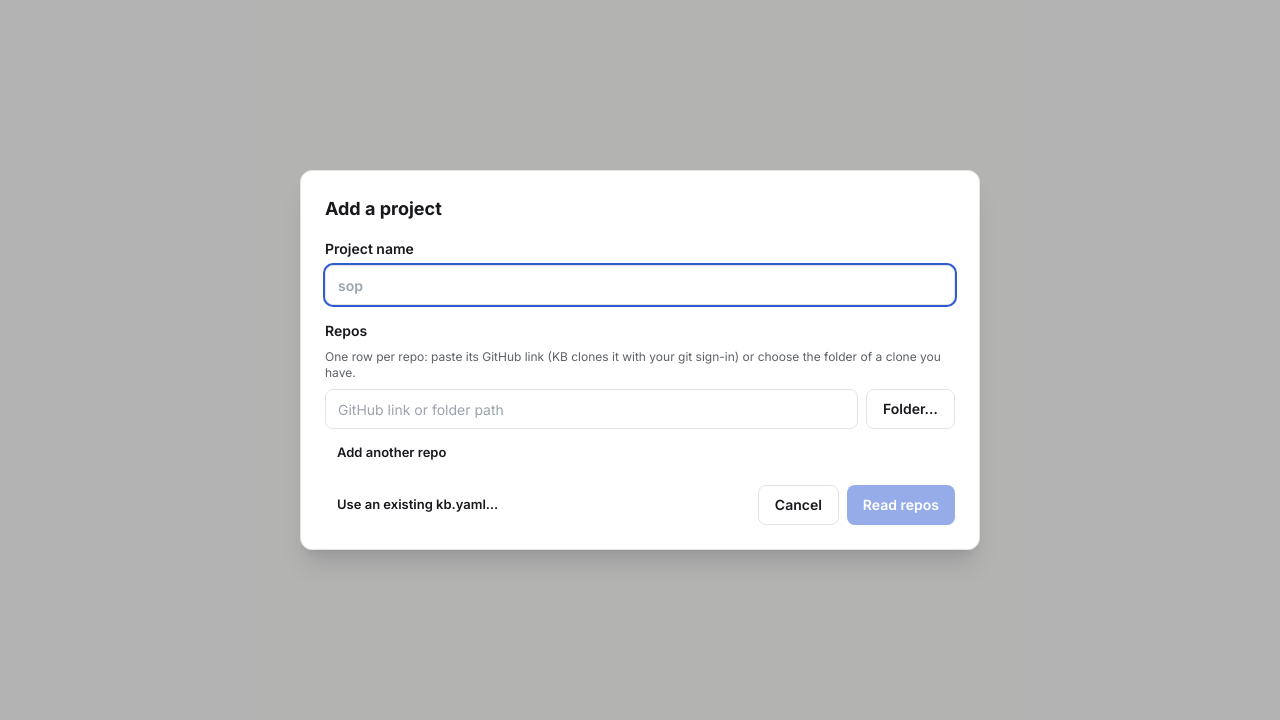
it: existing_yaml_still_works
Click the button "Use an existing kb.yaml…" at x=418, y=505, box [325,489,510,521]
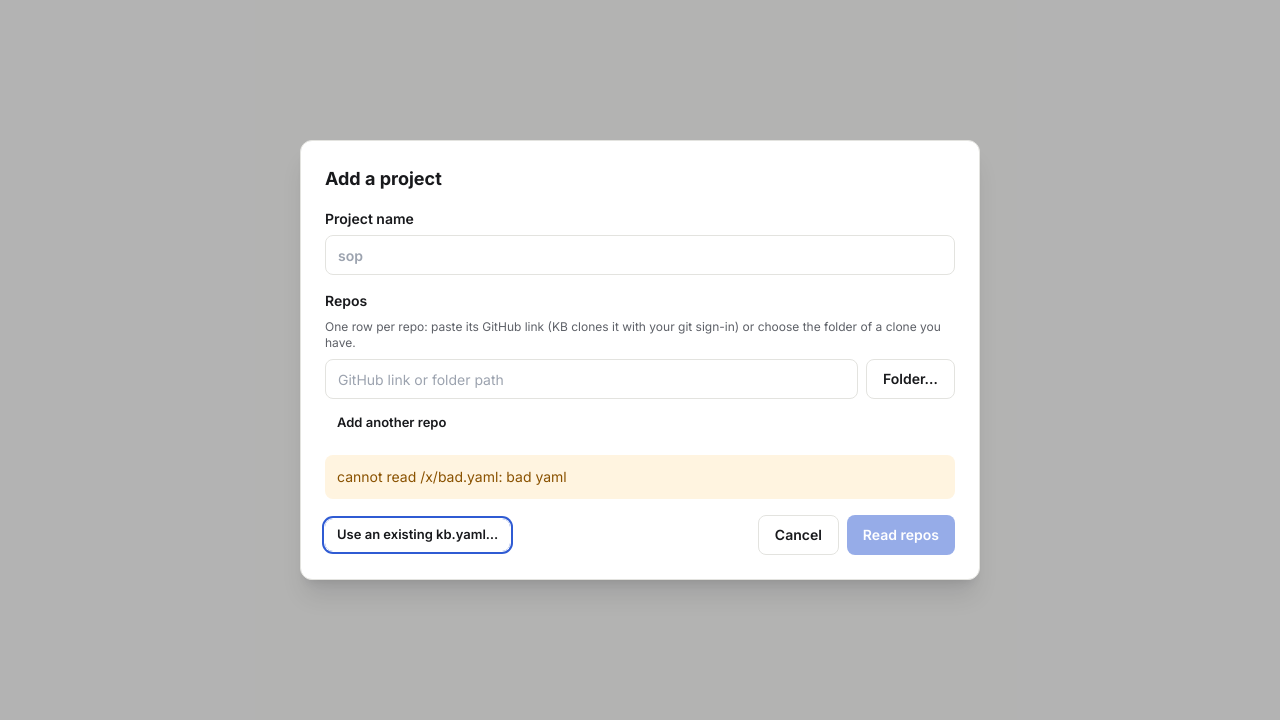
Result: the text "cannot read /x/bad.yaml: bad yaml" is shown at [325,455,955,499]
